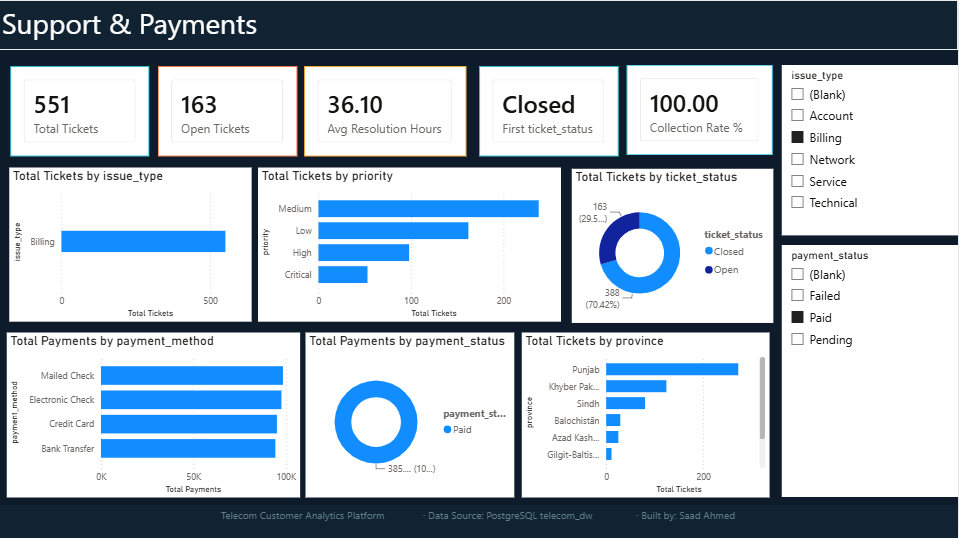

The page's visual inventory and layout, read from the dashboard file:
{"tool":"powerbi","page":{"name":"Support & Payments","canvas":[1280,720],"ordinal":5},"visuals":[{"type":"textbox","box":[0,0,1280,67.1],"z":0},{"type":"cardVisual","fields":{"Data":["gold fact_customer_snapshot.Total Tickets"]},"box":[16.9,87.7,185,120],"z":1000},{"type":"cardVisual","fields":{"Data":["gold fact_customer_snapshot.Open Tickets"]},"box":[212.6,87.7,185.7,120],"z":2000},{"type":"cardVisual","fields":{"Data":["gold fact_customer_snapshot.Avg Resolution Hours"]},"box":[408.3,87.7,215.7,120],"z":3000},{"type":"cardVisual","fields":{"Data":["Min(gold fact_support.ticket_status)"]},"box":[641.1,87.7,185.7,120],"z":4000},{"type":"cardVisual","fields":{"Data":["gold fact_customer_snapshot.Collection Rate %"]},"box":[838.6,87.1,194.3,120],"z":5000},{"type":"clusteredBarChart","fields":{"Category":["gold fact_support.issue_type"],"Y":["gold fact_customer_snapshot.Total Tickets"]},"box":[15.7,222.6,322.9,205.7],"z":6000},{"type":"clusteredBarChart","fields":{"Y":["gold fact_customer_snapshot.Total Tickets"],"Category":["gold fact_support.priority"]},"box":[346.6,223.7,404.3,205.7],"z":7000},{"type":"donutChart","fields":{"Category":["gold fact_support.ticket_status"],"Y":["gold fact_customer_snapshot.Total Tickets"]},"box":[764.3,224.3,268.6,205.7],"z":8000},{"type":"clusteredBarChart","fields":{"Y":["gold fact_customer_snapshot.Total Payments"],"Category":["gold fact_payment.payment_method"]},"box":[11.1,442.6,391.4,220],"z":9000},{"type":"donutChart","fields":{"Category":["gold fact_payment.payment_status"],"Y":["gold fact_customer_snapshot.Total Payments"]},"box":[409.7,442.6,278.6,220],"z":10000},{"type":"clusteredBarChart","fields":{"Y":["gold fact_customer_snapshot.Total Tickets"],"Category":["gold dim_city.province"]},"box":[698.3,442.6,330,220],"z":11000},{"type":"textbox","box":[0,672.9,1280,47.1],"z":12000},{"type":"slicer","fields":{"Values":["gold fact_support.issue_type"]},"box":[1044.3,87.1,235.7,227.1],"z":13000},{"type":"slicer","fields":{"Values":["gold fact_payment.payment_status"]},"box":[1044.3,327.1,235.7,335.7],"z":14000}]}

Visuals, with their boxes in screenshot pixels (x1, y1, x2, y2), scaled from the page's 1280x720 canvas onto the 959x538 screenshot:
textbox: bbox(0, 0, 958, 50)
cardVisual - gold fact_customer_snapshot.Total Tickets: bbox(13, 66, 151, 155)
cardVisual - gold fact_customer_snapshot.Open Tickets: bbox(159, 66, 298, 155)
cardVisual - gold fact_customer_snapshot.Avg Resolution Hours: bbox(306, 66, 468, 155)
cardVisual - Min(gold fact_support.ticket_status): bbox(480, 66, 619, 155)
cardVisual - gold fact_customer_snapshot.Collection Rate %: bbox(628, 65, 774, 155)
clusteredBarChart - gold fact_support.issue_type x gold fact_customer_snapshot.Total Tickets: bbox(12, 166, 254, 320)
clusteredBarChart - gold fact_customer_snapshot.Total Tickets x gold fact_support.priority: bbox(260, 167, 563, 321)
donutChart - gold fact_support.ticket_status x gold fact_customer_snapshot.Total Tickets: bbox(573, 168, 774, 321)
clusteredBarChart - gold fact_customer_snapshot.Total Payments x gold fact_payment.payment_method: bbox(8, 331, 302, 495)
donutChart - gold fact_payment.payment_status x gold fact_customer_snapshot.Total Payments: bbox(307, 331, 516, 495)
clusteredBarChart - gold fact_customer_snapshot.Total Tickets x gold dim_city.province: bbox(523, 331, 770, 495)
textbox: bbox(0, 503, 958, 537)
slicer - gold fact_support.issue_type: bbox(782, 65, 958, 235)
slicer - gold fact_payment.payment_status: bbox(782, 244, 958, 495)
